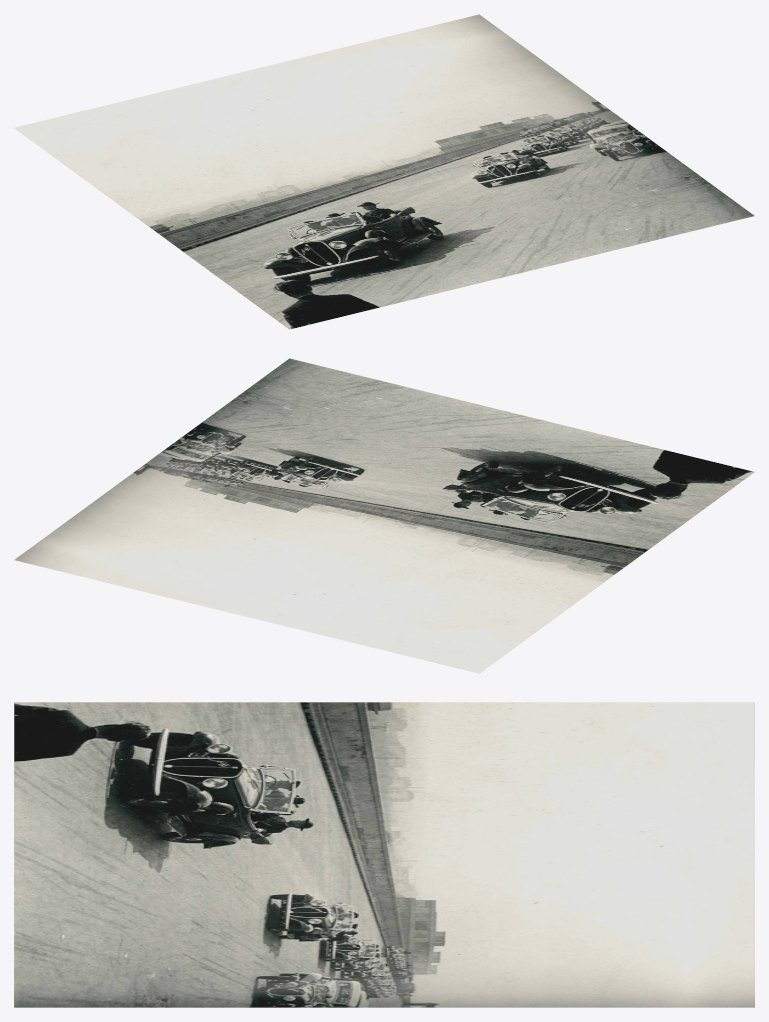
The model's file is macchine.obj.
3 views of the same model, one above another, from view 1: azimuth 30°, elevation 25°; view 2: azimuth 150°, elevation 25°; view 3: azimuth 270°, elevation 25° (orthographic). The views are drawn at different scales.
Visible parts, largest first — view 1: Plane001; view 2: Plane001; view 3: Plane001.
Boxes of the visible parts, x1,y1,x2,y2 form: Plane001: [14, 14, 754, 329]; Plane001: [14, 358, 754, 673]; Plane001: [14, 702, 754, 1007].
Size of the model in its own units: 59.5 by 0 by 61.
